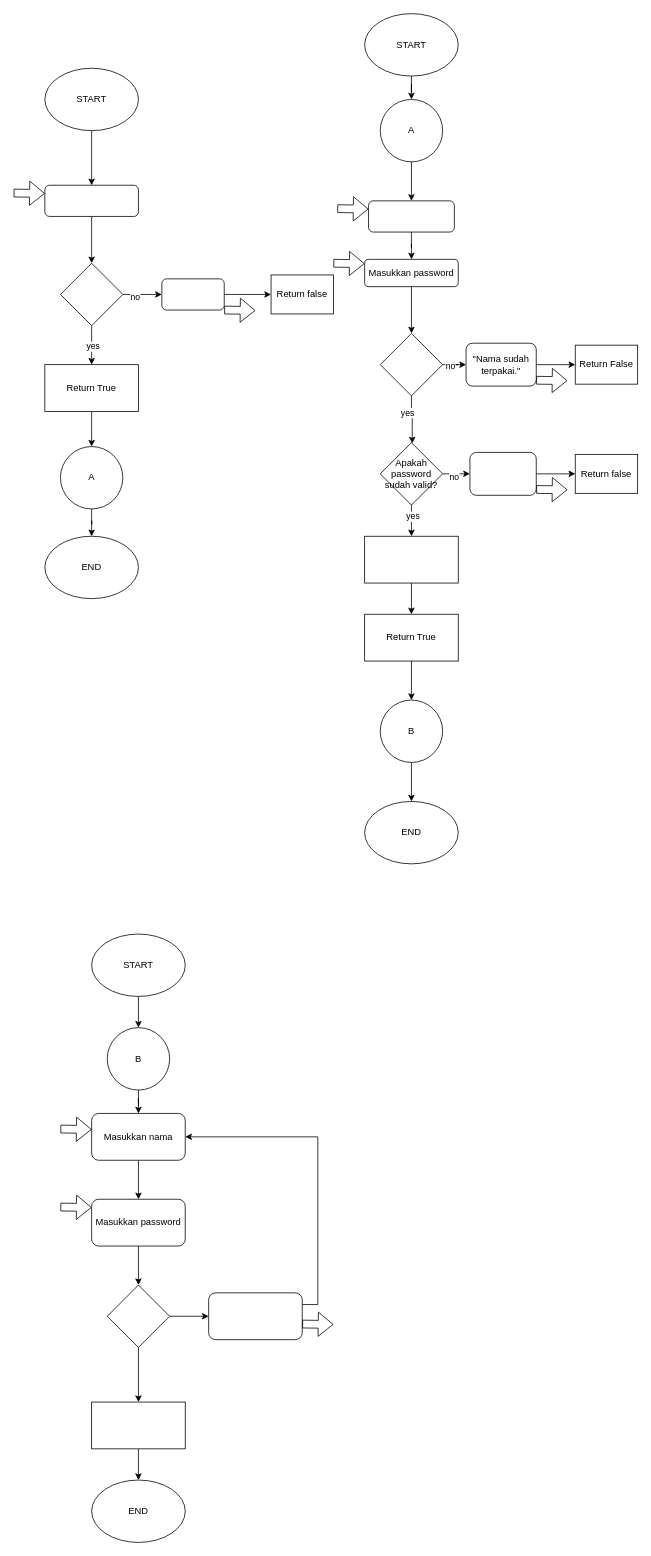
Image size: 651x1556. Some labels were removed from this diagram. Here are the shapes that lost their labels. From the top down, the centre of each, then its label:
[91,200]: Masukkan umur:
[411,216]: Masukkan nama:
[91,294]: 18 < umur < 65
[192,294]: "Umur anda tidak mencukup"
[411,364]: Apakah nama sudah ada?
[502,473]: "Password tidak valid"
[411,559]: Simpan nama dan password ke data user
[138,1315]: Apakah nama dan password sudah benar?
[255,1316]: Nama dan password salah
[138,1425]: Tampilkan menu utama
